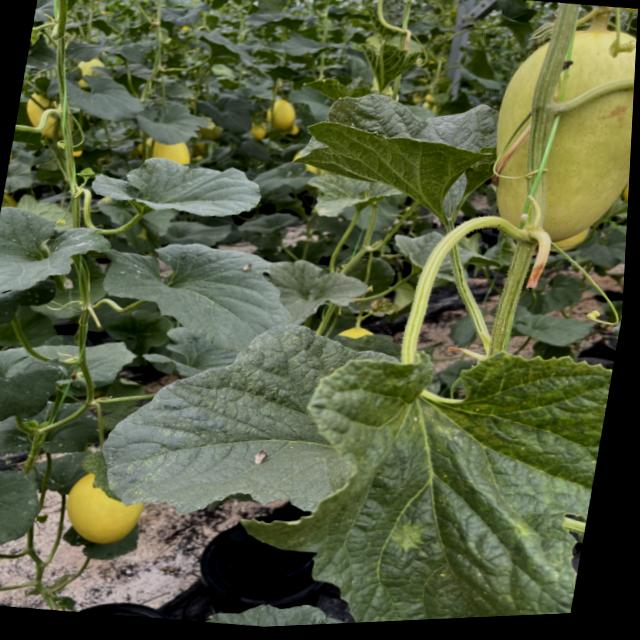CMV: (80, 296, 390, 540), (285, 78, 505, 235)
alternaria leaf blight: (0, 449, 52, 583)
downy mildew: (299, 322, 616, 625), (0, 199, 120, 318)
healthy: (82, 226, 303, 366), (81, 144, 267, 233), (0, 341, 68, 462), (190, 586, 349, 630)
powdery mildew: (0, 454, 50, 583)
